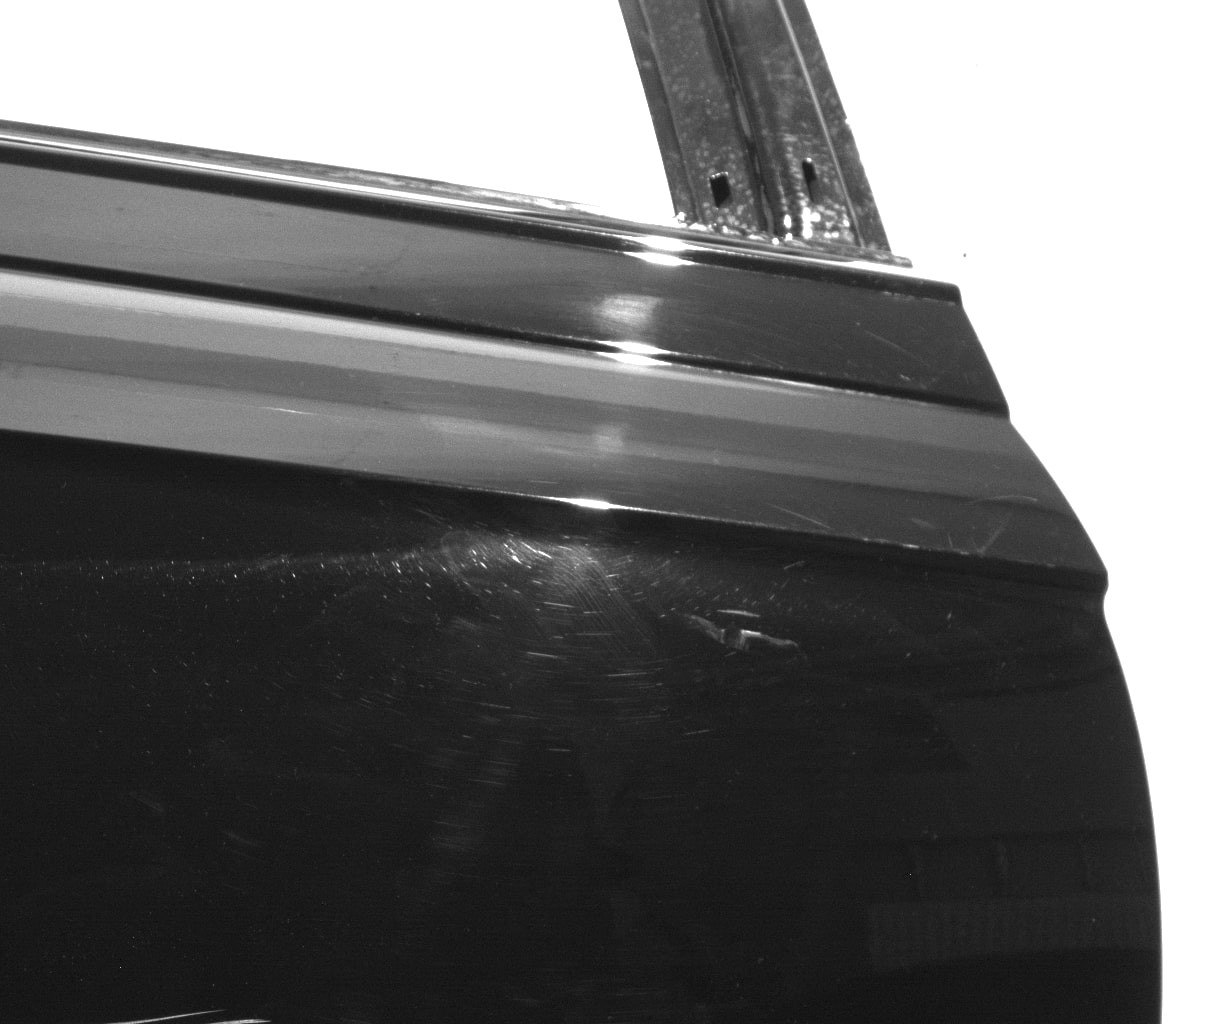scratch: (119, 1008, 270, 1024), (865, 332, 928, 364), (769, 502, 831, 529), (741, 628, 796, 645), (863, 536, 922, 548), (978, 495, 1038, 504), (716, 609, 759, 618)
